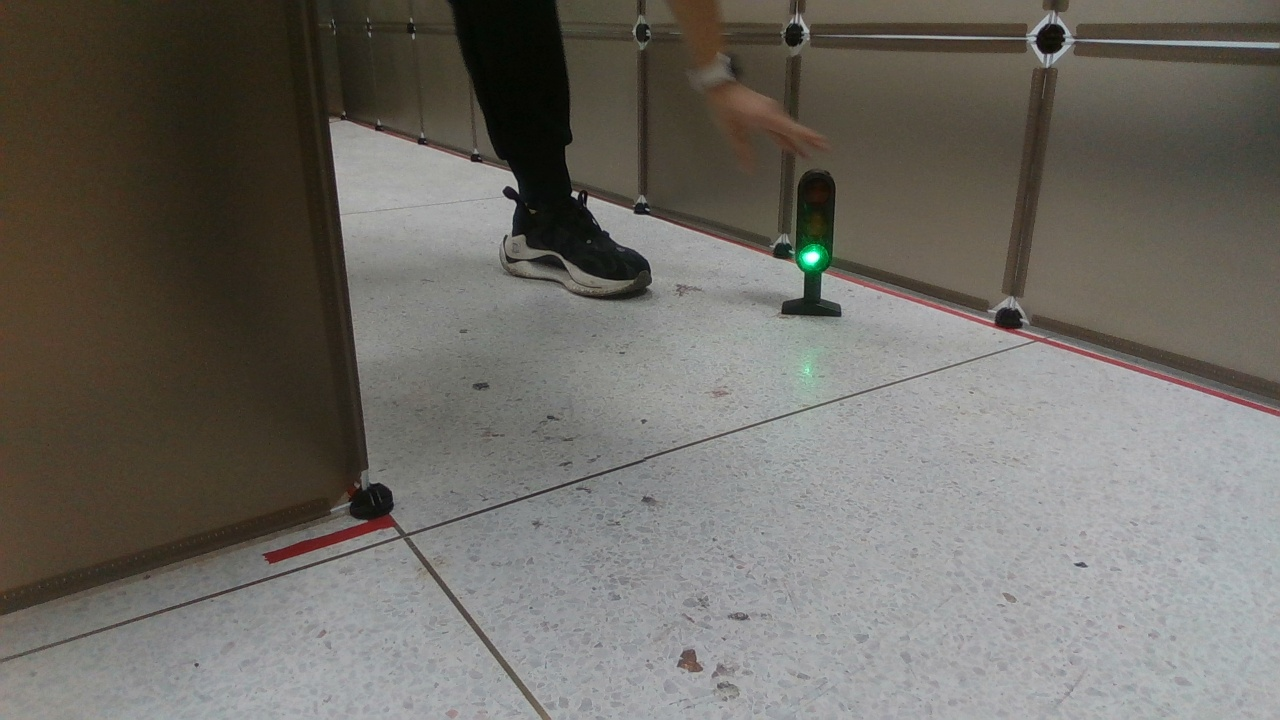Green traffic light: (781, 168, 846, 321)
